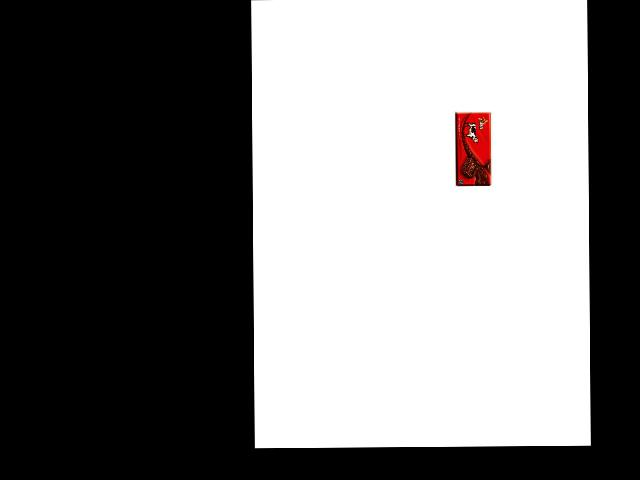chocolate: (461, 118, 498, 188)
